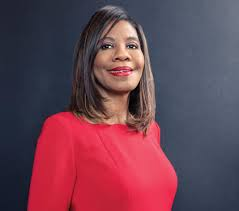black_female: (66, 1, 163, 106)
